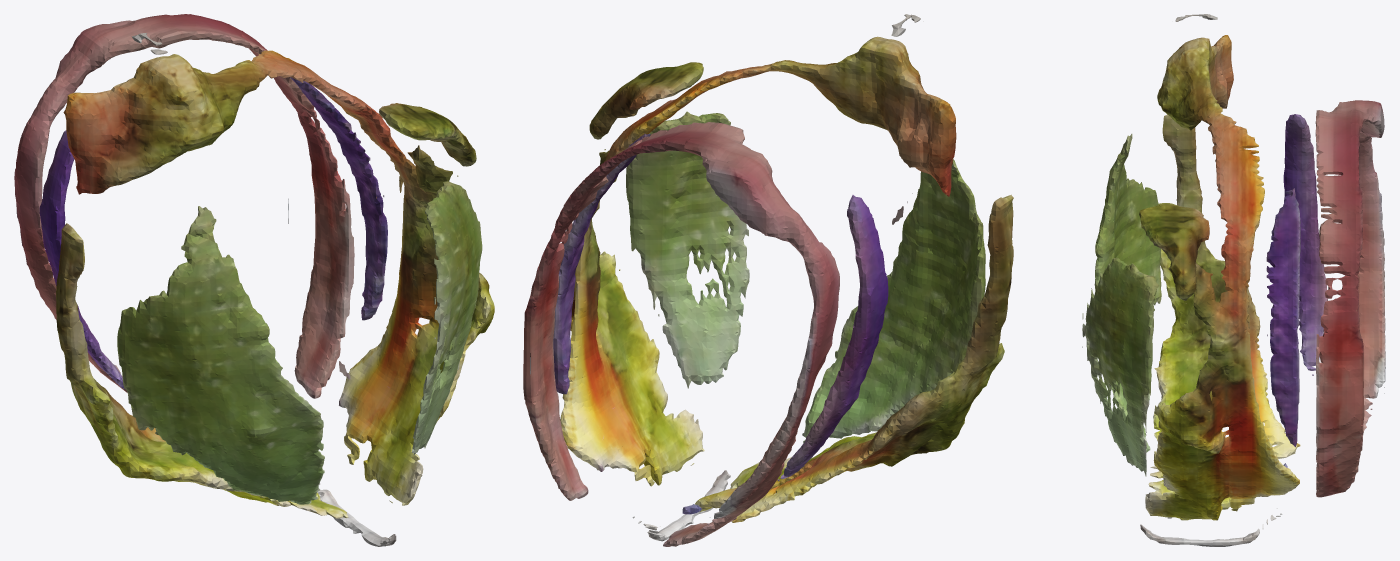
Rendered from image2_overlay.obj.
3 renders of one model, left to right at view 1: azimuth 30°, elevation 25°; view 2: azimuth 150°, elevation 25°; view 3: azimuth 270°, elevation 25°, orthographic. The views are drawn at different scales.
Bounding box in the file's own units: 1.47 × 1.79 × 1.25.
Materials: 1 (1 with a texture image).
